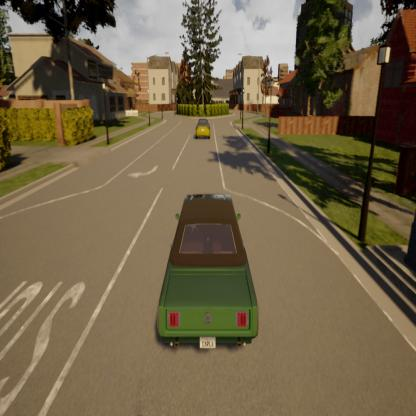Cars: (158, 193, 259, 351), (194, 117, 211, 140)
